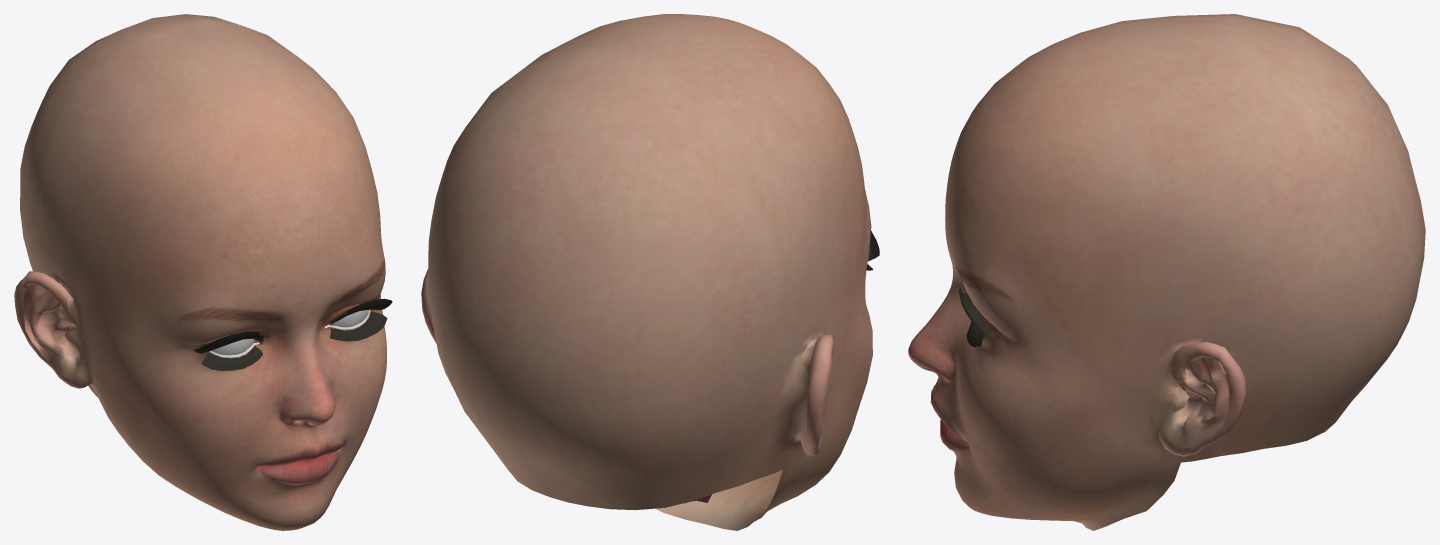
The model's file is xxOld.obj.
The picture shows the model from 3 angles, left to right: view 1: azimuth 30°, elevation 25°; view 2: azimuth 150°, elevation 25°; view 3: azimuth 270°, elevation 25°; orthographic projection. The views are drawn at different scales.
Visible parts, largest first — view 1: Old; view 2: Old; view 3: Old.
Boxes of the visible parts, box(x1,y1,x2,y2) form: Old: box(14, 14, 392, 530); Old: box(421, 14, 879, 530); Old: box(908, 14, 1425, 530).
Bounding box in the file's own units: 18.85 × 23.36 × 22.38.
